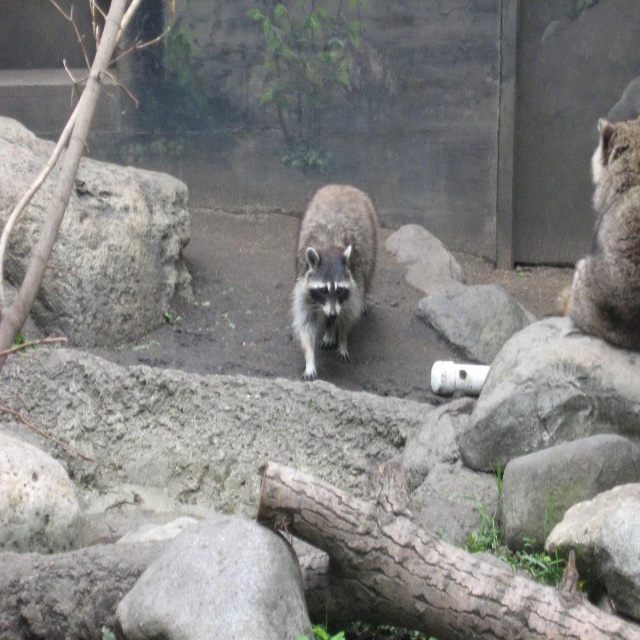Raccoon: (289, 182, 380, 382)
